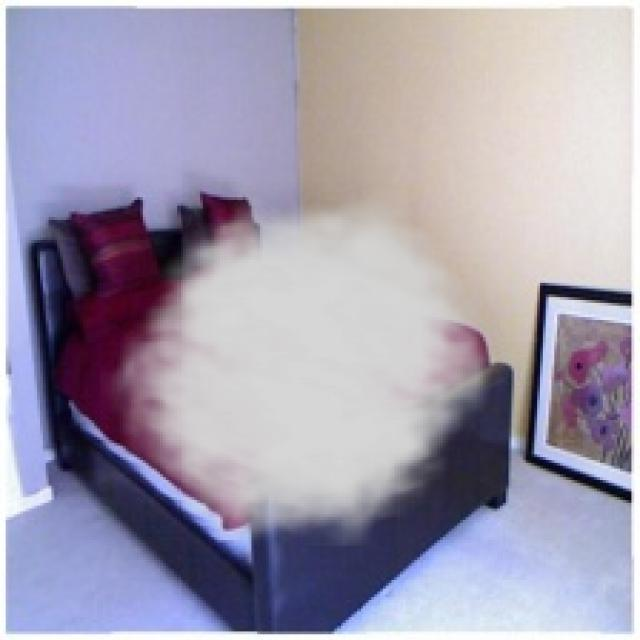Smoke: (100, 183, 509, 546)
